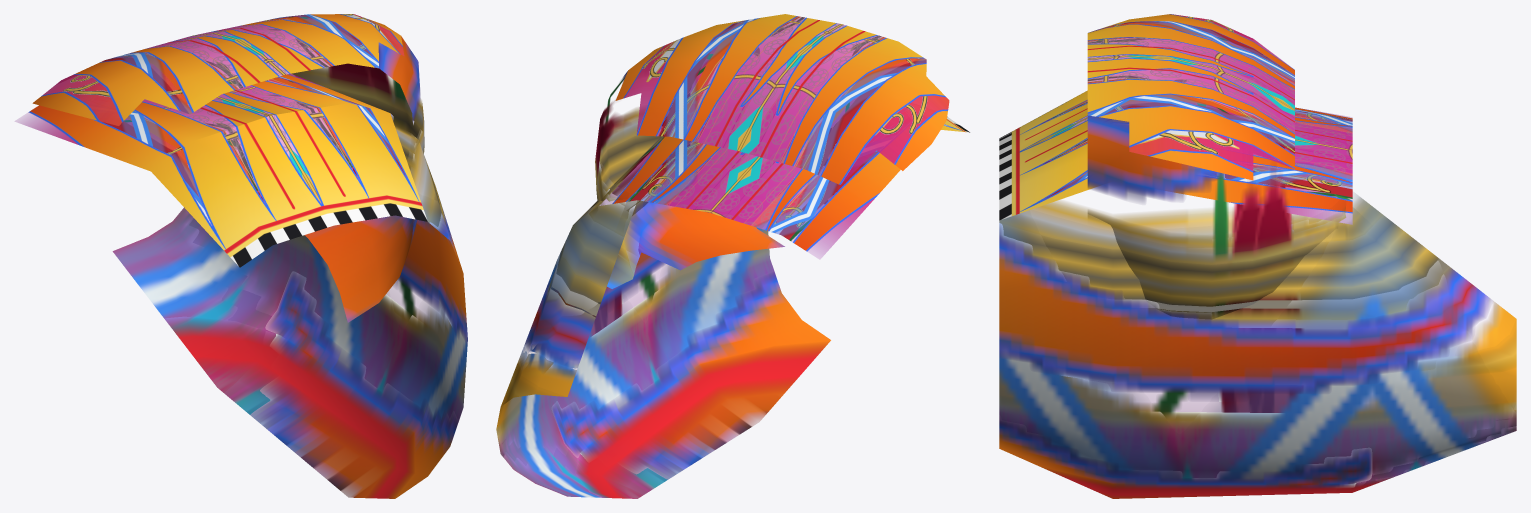
Rendered from SportBikeVinyls.glb.
3 views of the same model, side by side, from view 1: azimuth 30°, elevation 25°; view 2: azimuth 150°, elevation 25°; view 3: azimuth 270°, elevation 25° (orthographic). The views are drawn at different scales.
Visible parts, largest first — view 1: SportBikeLivery_flames_hood, SportBikeLivery_flames_side, SportBikeLivery_lightning_side, SportBikeLivery_checker_side, SportBikeLivery_patterns_side, SportBikeLivery_patterns_hood, SportBikeLivery_checker_hood, SportBikeLivery_scallops_side, SportBikeLivery_roses_side, SportBikeLivery_flames_teal_side, SportBikeLivery_purple_lace_hood, SportBikeLivery_purple_lace_side (+10 smaller); view 2: SportBikeLivery_flames_side, SportBikeLivery_lightning_side, SportBikeLivery_flames_hood, SportBikeLivery_patterns_hood, SportBikeLivery_checker_side, SportBikeLivery_patterns_side, SportBikeLivery_purple_lace_hood, SportBikeLivery_lightning_hood, SportBikeLivery_flames_teal_side, SportBikeLivery_mural_side, SportBikeLivery_retro_waves_hood, SportBikeLivery_roses_side (+12 smaller); view 3: SportBikeLivery_lightning_side, SportBikeLivery_flames_side, SportBikeLivery_patterns_side, SportBikeLivery_flames_hood, SportBikeLivery_roses_side, SportBikeLivery_mural_side, SportBikeLivery_scallops_side, SportBikeLivery_flames_teal_side, SportBikeLivery_retro_waves_side, SportBikeLivery_patterns_hood, SportBikeLivery_pinstripe_side, SportBikeLivery_purple_lace_hood (+12 smaller).
Part boxes in pixels (left/top/right/bottom): SportBikeLivery_flames_hood: left=28, top=14, right=423, bottom=257; SportBikeLivery_flames_side: left=261, top=36, right=467, bottom=498; SportBikeLivery_lightning_side: left=113, top=203, right=467, bottom=427; SportBikeLivery_checker_side: left=167, top=319, right=413, bottom=498; SportBikeLivery_patterns_side: left=113, top=208, right=463, bottom=425; SportBikeLivery_patterns_hood: left=128, top=18, right=357, bottom=200; SportBikeLivery_checker_hood: left=167, top=28, right=427, bottom=267; SportBikeLivery_scallops_side: left=193, top=67, right=439, bottom=335; SportBikeLivery_roses_side: left=292, top=50, right=441, bottom=317; SportBikeLivery_flames_teal_side: left=265, top=43, right=467, bottom=432; SportBikeLivery_purple_lace_hood: left=143, top=24, right=349, bottom=190; SportBikeLivery_purple_lace_side: left=113, top=208, right=425, bottom=398; SportBikeLivery_flames_side: left=525, top=71, right=830, bottom=472; SportBikeLivery_lightning_side: left=502, top=204, right=774, bottom=497; SportBikeLivery_flames_hood: left=612, top=14, right=966, bottom=251; SportBikeLivery_patterns_hood: left=645, top=16, right=884, bottom=229; SportBikeLivery_checker_side: left=577, top=343, right=827, bottom=498; SportBikeLivery_patterns_side: left=497, top=168, right=774, bottom=498; SportBikeLivery_purple_lace_hood: left=668, top=16, right=882, bottom=224; SportBikeLivery_lightning_hood: left=641, top=18, right=949, bottom=236; SportBikeLivery_flames_teal_side: left=525, top=73, right=776, bottom=470; SportBikeLivery_mural_side: left=546, top=137, right=659, bottom=323; SportBikeLivery_retro_waves_hood: left=630, top=21, right=926, bottom=239; SportBikeLivery_roses_side: left=500, top=77, right=664, bottom=455; SportBikeLivery_lightning_side: left=999, top=197, right=1516, bottom=481; SportBikeLivery_flames_side: left=999, top=115, right=1489, bottom=498; SportBikeLivery_patterns_side: left=999, top=242, right=1516, bottom=486; SportBikeLivery_flames_hood: left=1011, top=14, right=1352, bottom=215; SportBikeLivery_roses_side: left=999, top=167, right=1515, bottom=426; SportBikeLivery_mural_side: left=1014, top=223, right=1454, bottom=324; SportBikeLivery_scallops_side: left=1004, top=200, right=1490, bottom=482; SportBikeLivery_flames_teal_side: left=999, top=116, right=1489, bottom=485; SportBikeLivery_retro_waves_side: left=999, top=302, right=1516, bottom=468; SportBikeLivery_patterns_hood: left=1031, top=35, right=1352, bottom=186; SportBikeLivery_pinstripe_side: left=1031, top=225, right=1451, bottom=322; SportBikeLivery_purple_lace_hood: left=1054, top=38, right=1351, bottom=173.
Size of the model in its own units: 1.49 by 1.79 by 2.05.
Materials: 30 (30 with a texture image).
